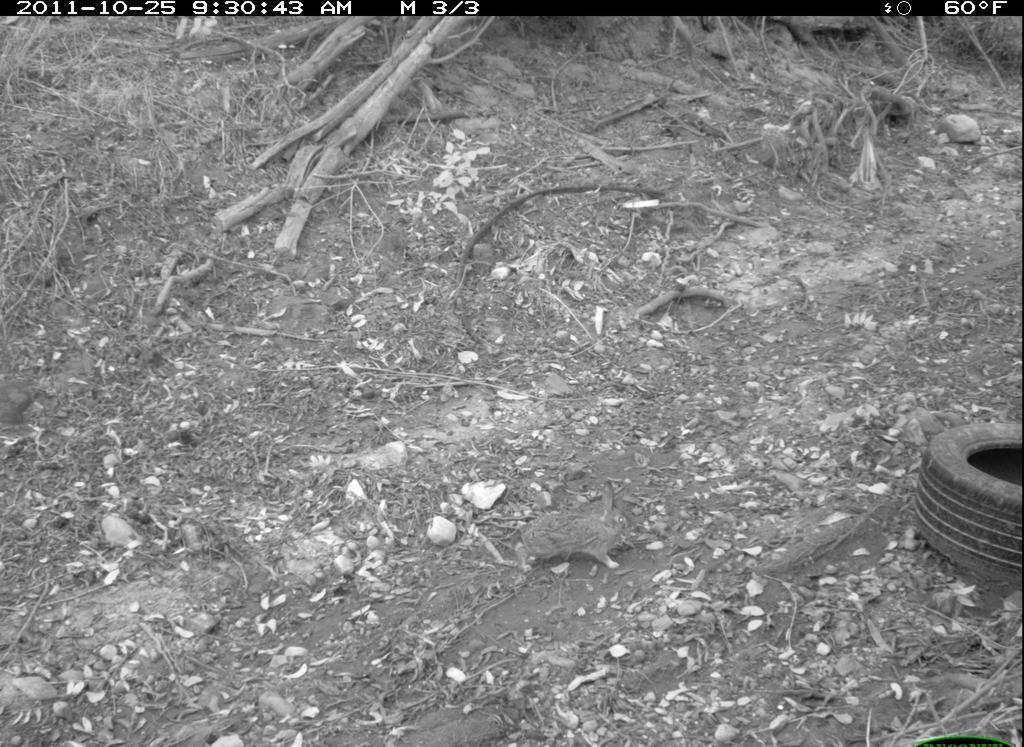rabbit: (506, 474, 643, 589)
